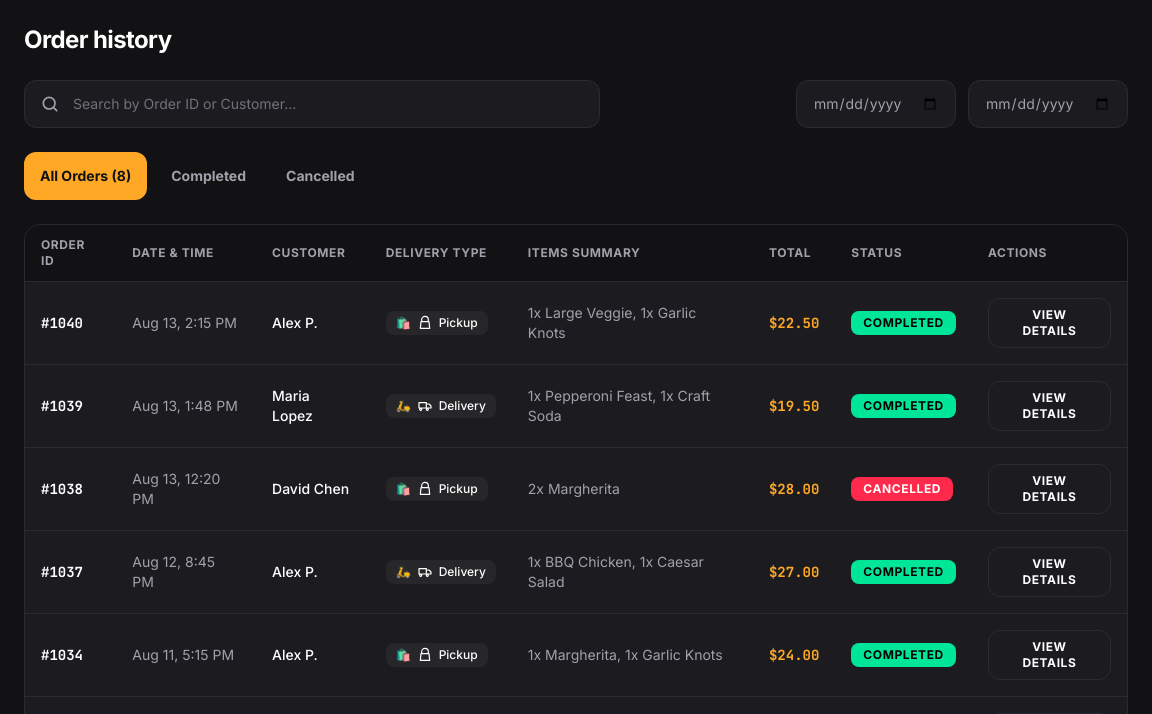
Test: OrderHistoryView › shows drawer error when order details are not found
The image size is (1152, 714).
Step 1. Click the button with test id "view-details-ord-1040" → (1049, 323), box 988,298 -> 1111,348
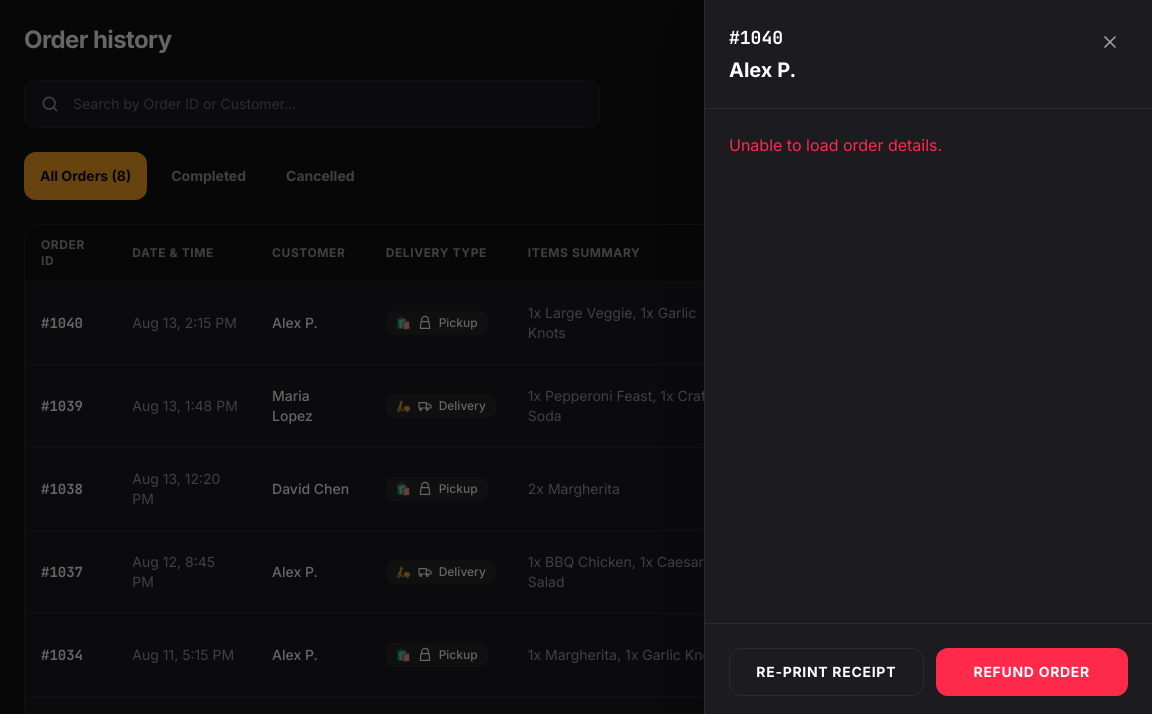
Expected: the text "Unable to load order details." is shown, 729,135 -> 942,155
